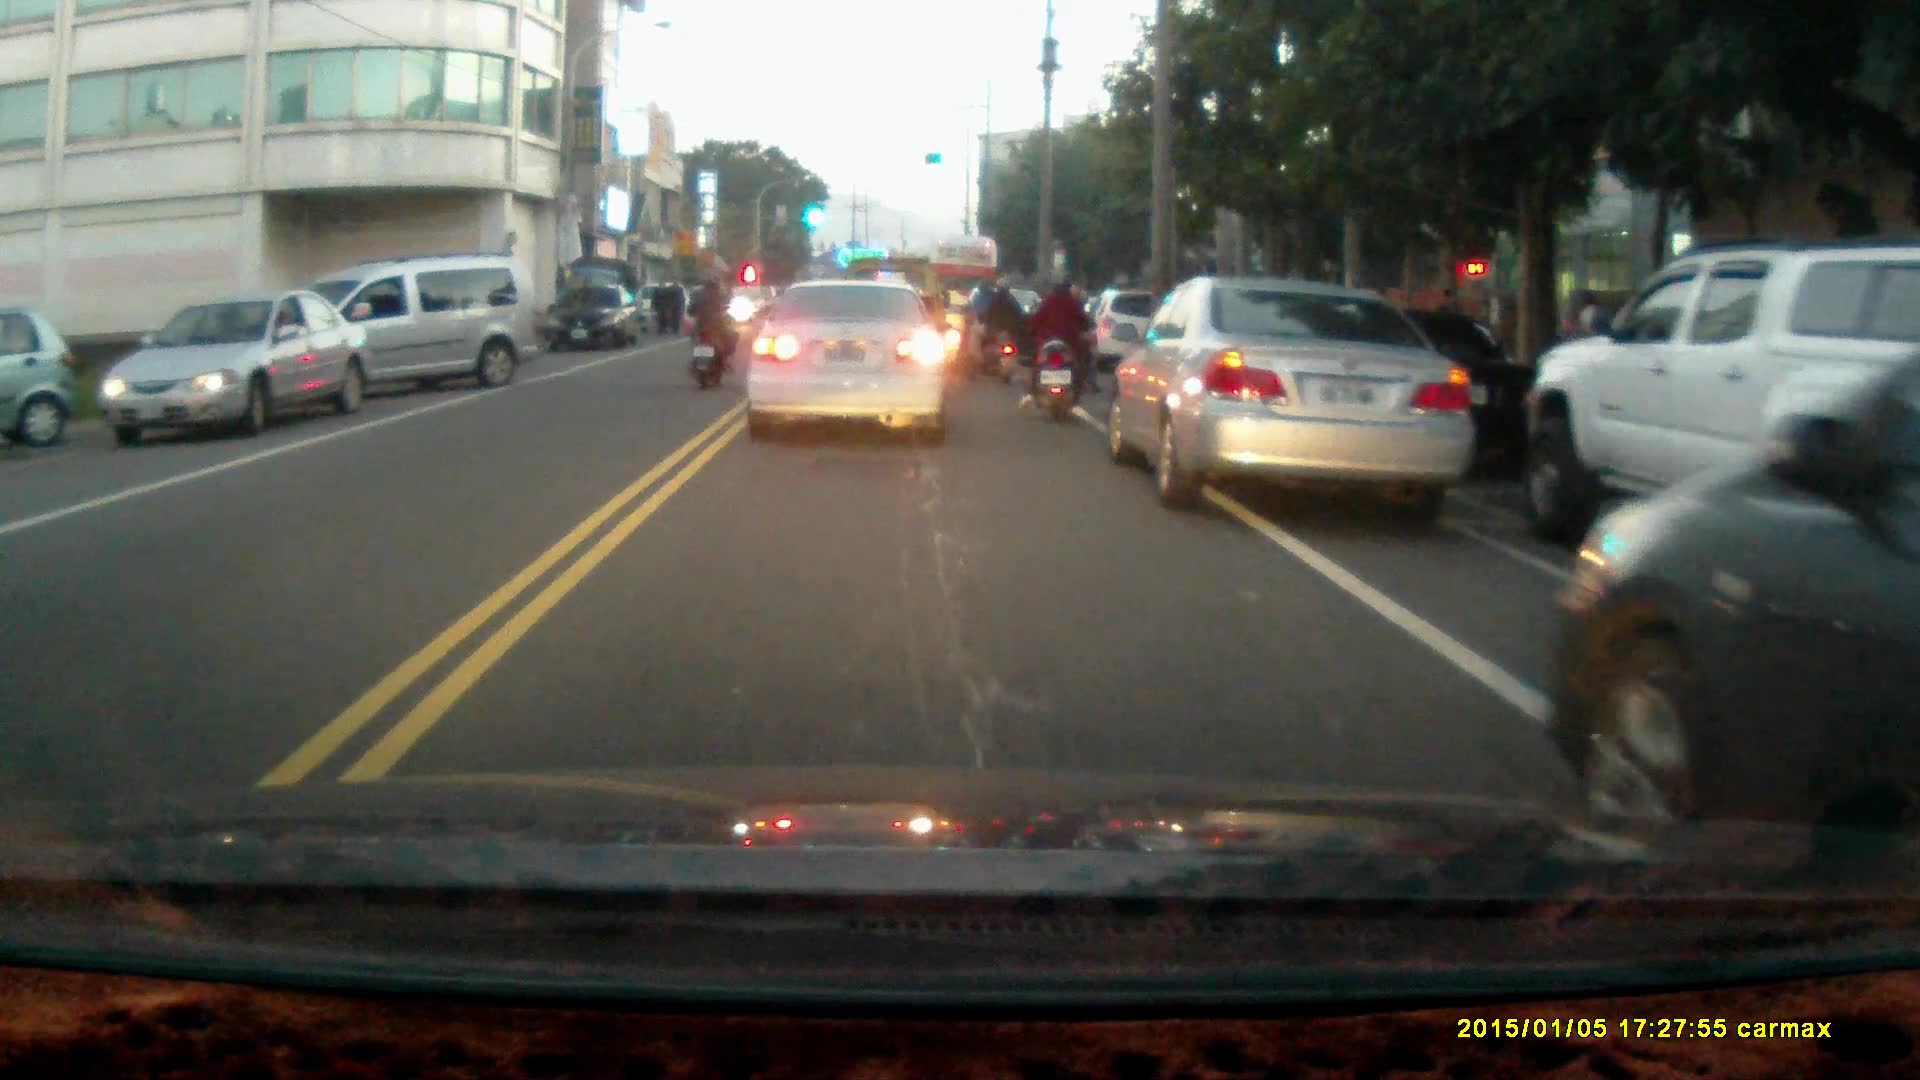pedestrian: (649, 276, 674, 339)
rider: (1017, 266, 1098, 423), (958, 270, 1023, 383), (685, 274, 735, 388)
vehicle: (1551, 344, 1920, 882), (1517, 245, 1920, 556), (1102, 270, 1474, 512), (252, 255, 543, 414), (101, 292, 368, 442), (742, 277, 950, 450), (1, 296, 77, 448), (543, 282, 642, 353)
